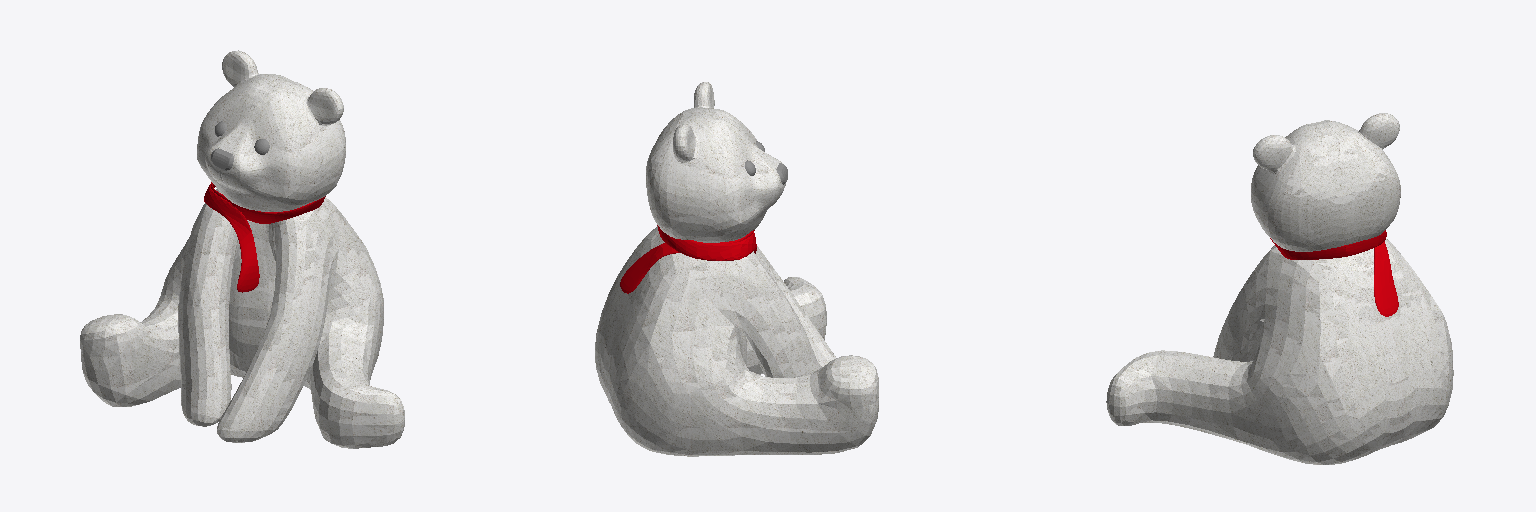
3 views of the same model, side by side, from view 1: azimuth 30°, elevation 25°; view 2: azimuth 150°, elevation 25°; view 3: azimuth 270°, elevation 25° (orthographic).
Visible parts, largest first — view 1: Group_001, Head_002, Head_001, Scarf_001; view 2: Group_001, Head_001, Scarf_001, Head_002; view 3: Group_001, Head_002, Head_001, Scarf_001.
Part boxes in pixels (bbox=[...]): Group_001: bbox=[80, 189, 404, 448]; Head_002: bbox=[220, 80, 345, 211]; Head_001: bbox=[197, 50, 289, 204]; Scarf_001: bbox=[204, 182, 325, 292]; Group_001: bbox=[595, 226, 878, 456]; Head_001: bbox=[646, 113, 784, 242]; Scarf_001: bbox=[620, 225, 756, 293]; Head_002: bbox=[658, 82, 785, 187]; Group_001: bbox=[1106, 239, 1453, 464]; Head_002: bbox=[1251, 123, 1344, 251]; Head_001: bbox=[1316, 113, 1400, 244]; Scarf_001: bbox=[1270, 230, 1398, 316].
Size of the model in its own units: 232 by 251 by 248.
Materials: 4 (2 with a texture image).